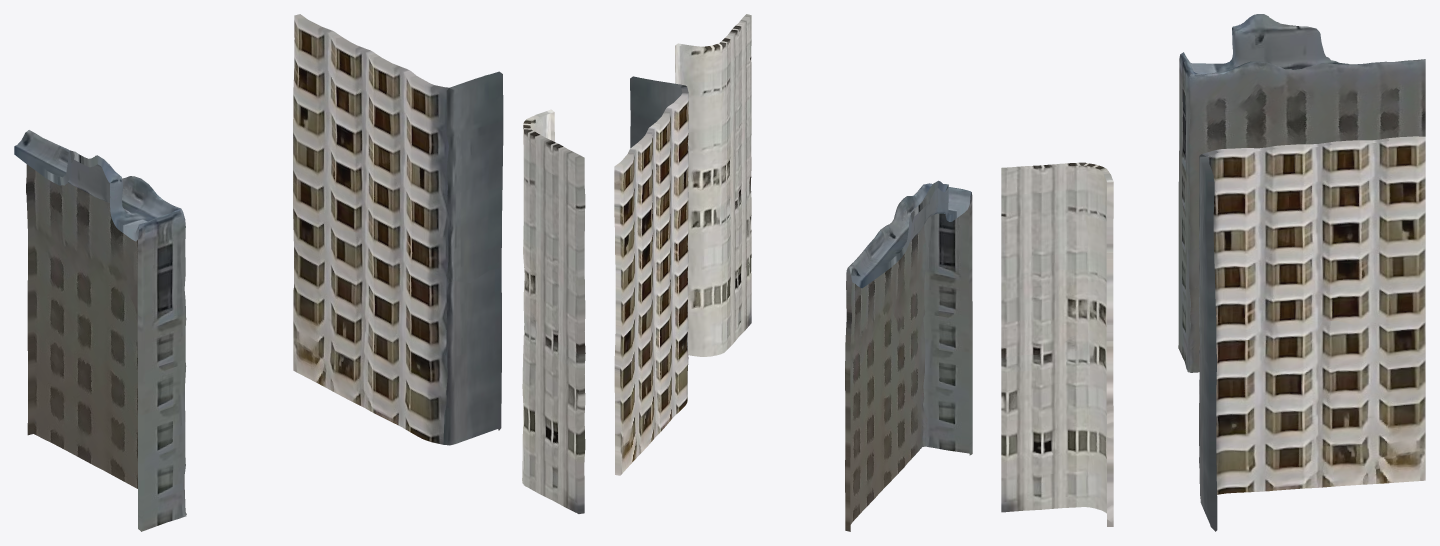
Rendered from z20-167748-405243-h1-yup-uvflip-v3-world.glb.
3 renders of one model, left to right at view 1: azimuth 30°, elevation 25°; view 2: azimuth 150°, elevation 25°; view 3: azimuth 270°, elevation 25°, orthographic. The views are drawn at different scales.
Bounding box in the file's own units: 30.16 × 27.56 × 30.32.
1 material, 1 textured.
